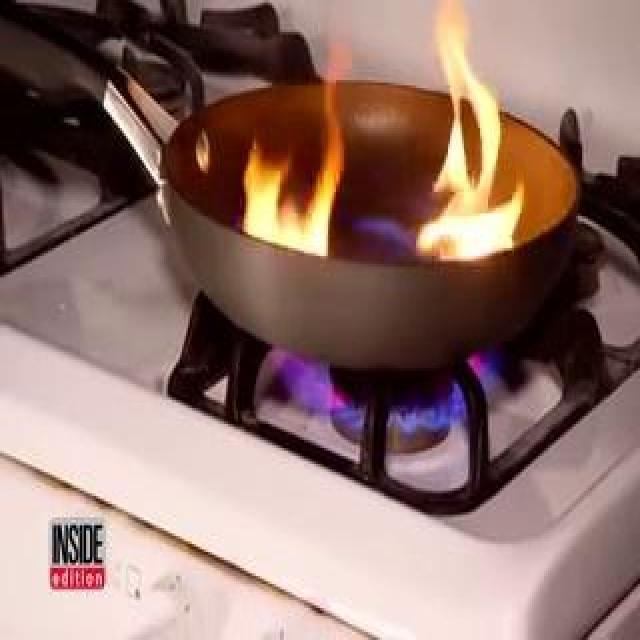Fire: (424, 4, 521, 260), (282, 350, 494, 442), (249, 71, 336, 254)
